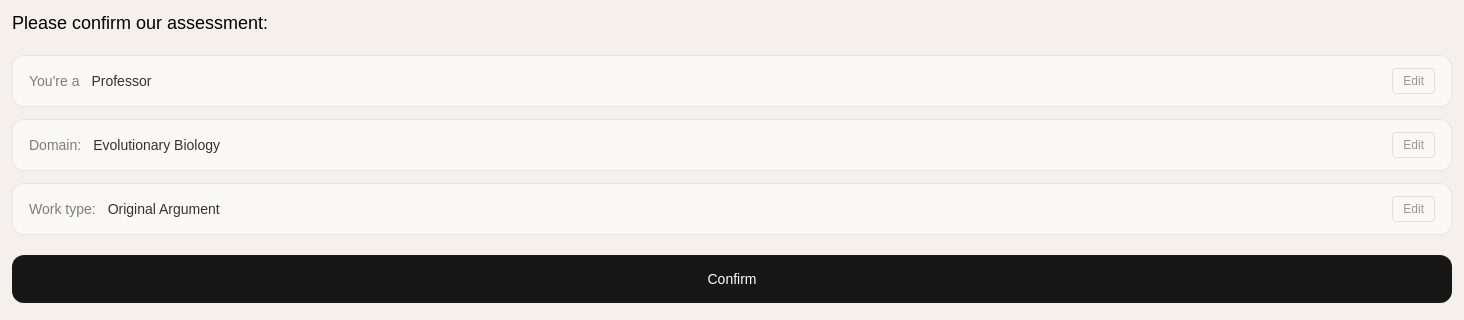
it: DetectionChips › enters edit mode on edit button click
Click the button with test id "detection-chip-work-type-edit". click: (1414, 208)
box: [1392, 196, 1435, 222]
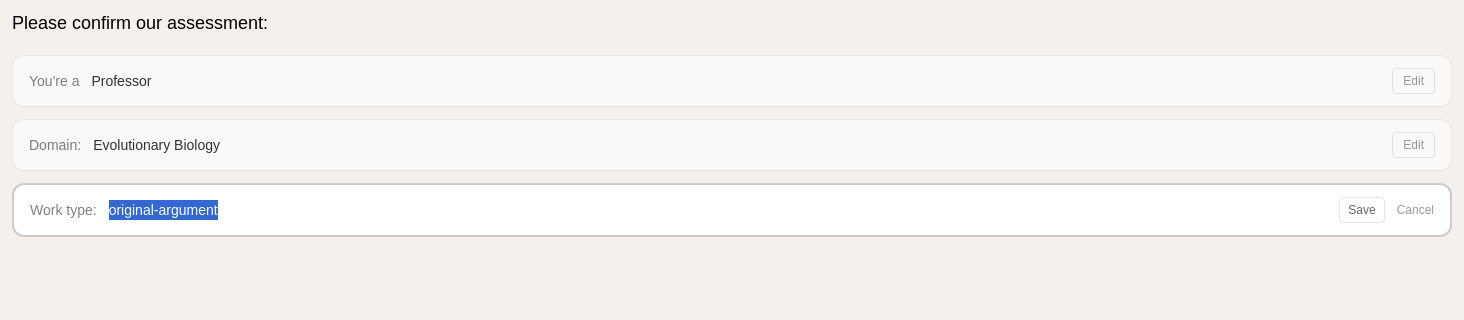
Expected: the field with test id "detection-chip-work-type-input" is shown, [109, 200, 1327, 220]
